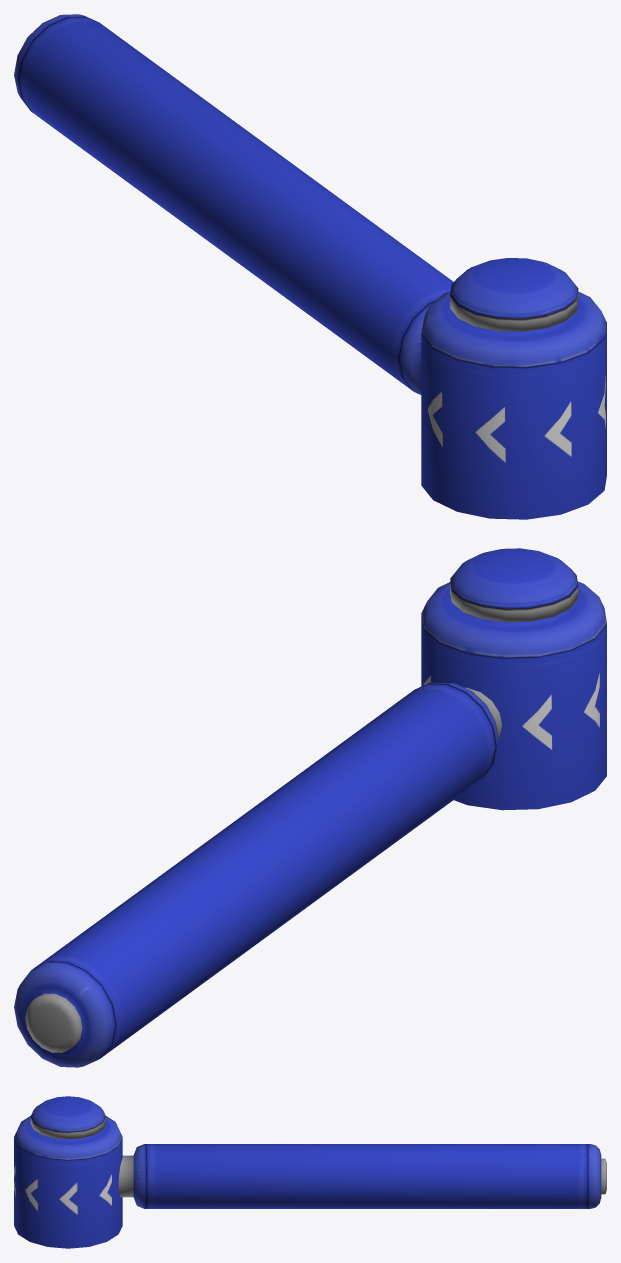
Rendered from OBS0110180.fbx.
3 renders of one model, top to bottom at view 1: azimuth 30°, elevation 25°; view 2: azimuth 150°, elevation 25°; view 3: azimuth 270°, elevation 25°, orthographic. The views are drawn at different scales.
Parts seen in each view (by area): view 1: smOBS0110180; view 2: smOBS0110180; view 3: smOBS0110180.
Part boxes in pixels (x1=…): smOBS0110180: x1=14, y1=14, x2=606, y2=519; smOBS0110180: x1=14, y1=548, x2=606, y2=1067; smOBS0110180: x1=14, y1=1096, x2=606, y2=1248.
Size of the model in its own units: 80.56 by 99.13 by 439.
1 material, 1 textured.
